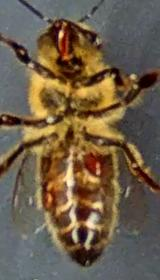varroa_mite: (72, 142, 108, 178)
